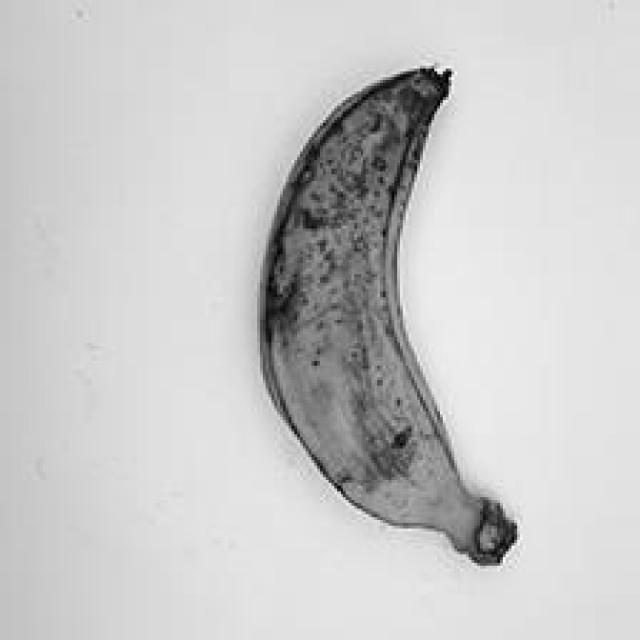Overripe: (220, 43, 556, 593)
